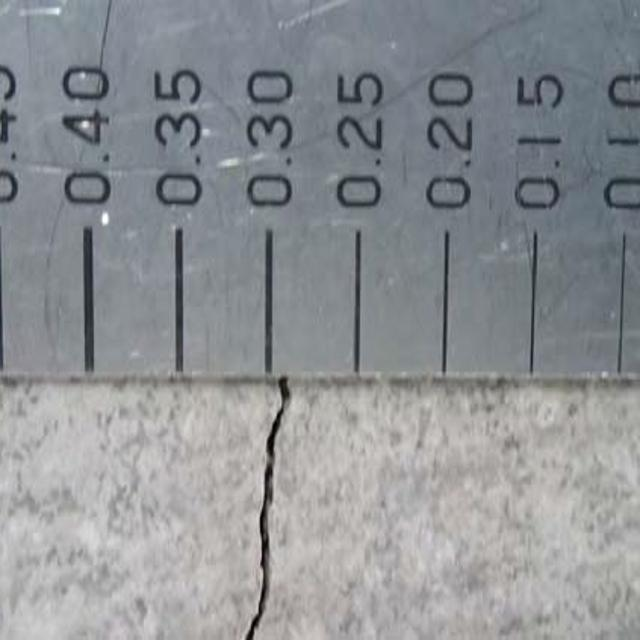crack: (241, 391, 306, 640)
